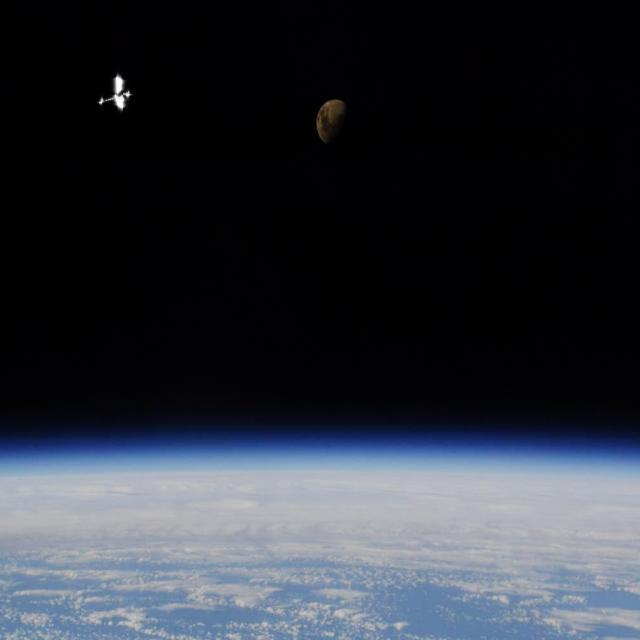satellite: (91, 59, 143, 122)
